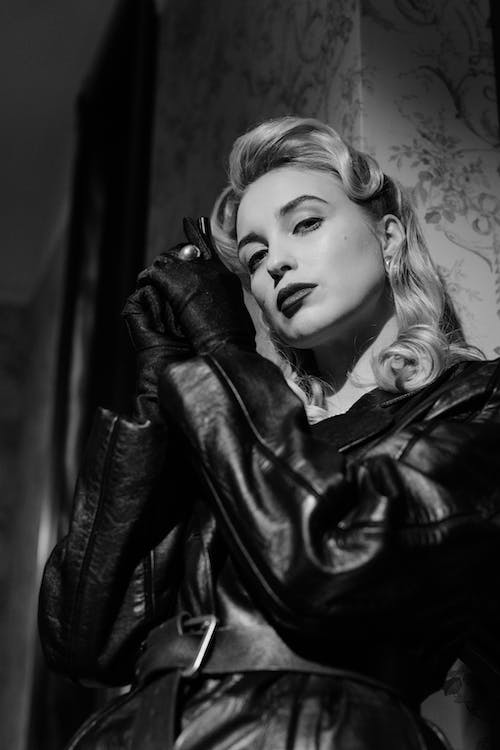gun: (177, 213, 220, 268)
